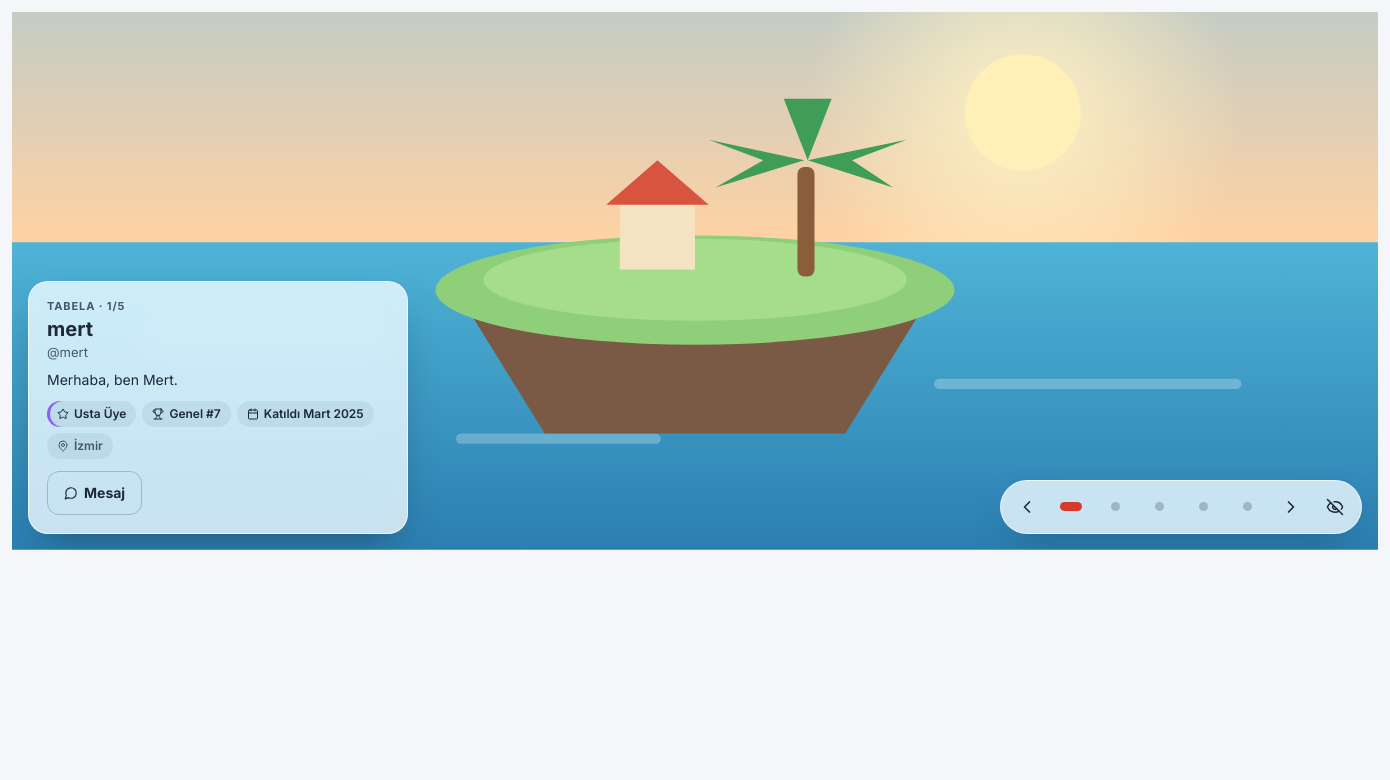
Test: ProfileIslandHero — yedekler › yedek verilmediyse afiş + kartlar kalır (sekmeler sayfada zaten altta)
Expected: the heading "mert" is shown, [47,317,93,341]
Click the button named "Sonraki durak": (1291, 507) [1269,485,1313,529]
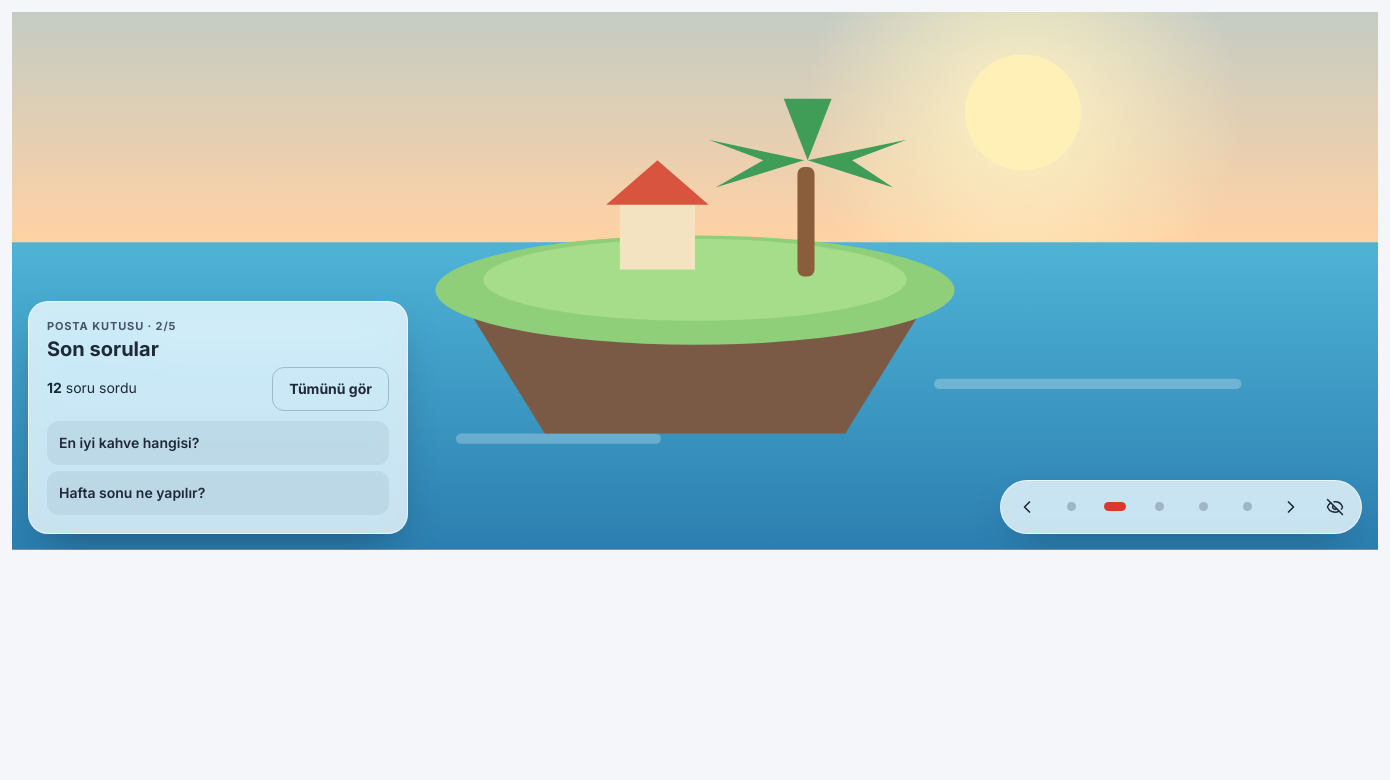
Expected: the heading "Son sorular" is shown, [47,337,159,361]
